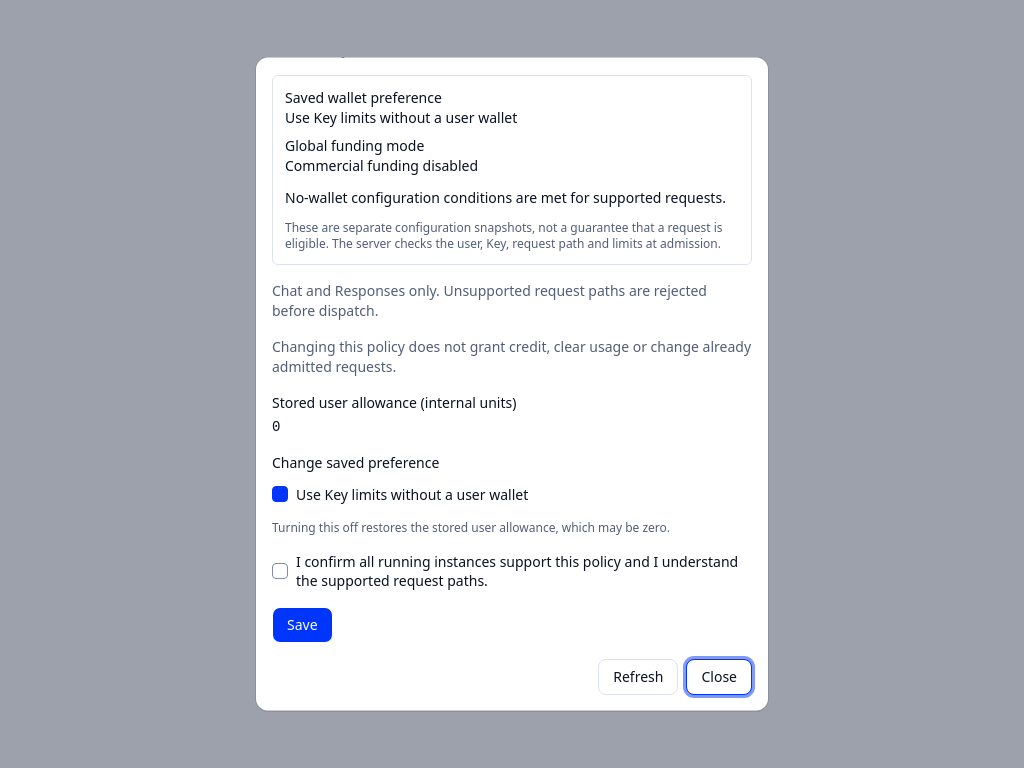
Test case: failed policy refresh removes configuration claims even when old data remains cached
The width and height of the screenshot is (1024, 768).
(page scrolled)
Expected: the text "No-wallet configuration conditions are met for supported requests." is shown, left=285, top=187, right=739, bottom=207
Click the button "Refresh" at x=638, y=676, box left=598, top=658, right=678, bottom=694
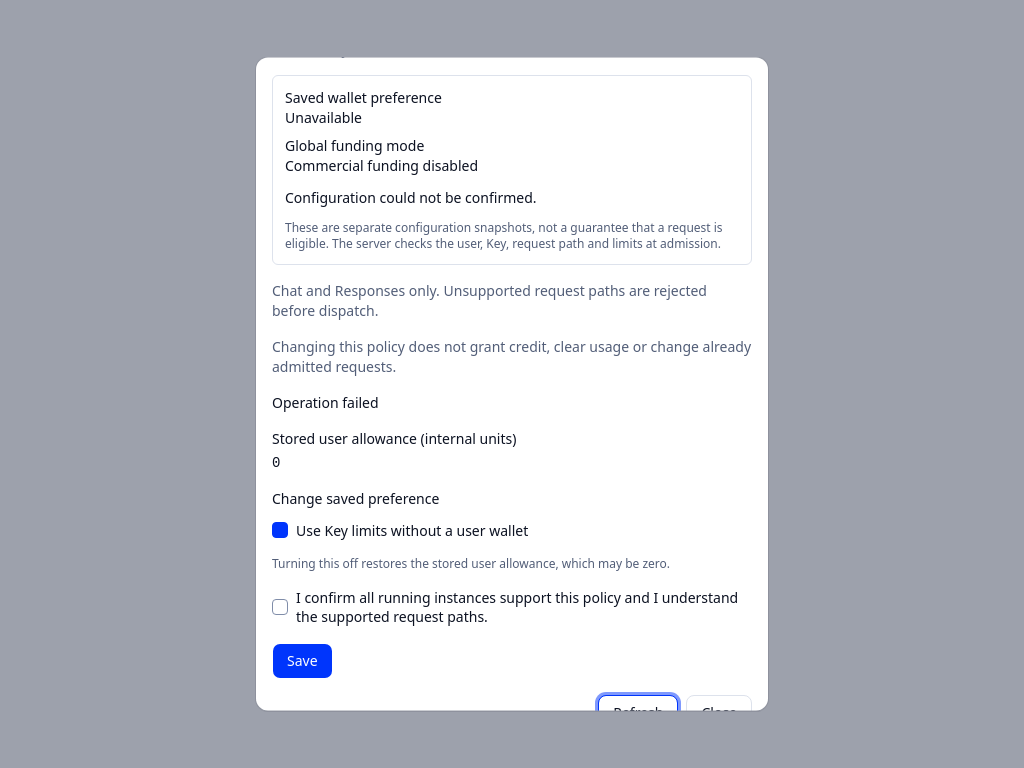
Result: the text "Configuration could not be confirmed." is shown at left=285, top=187, right=536, bottom=206
Result: the text "No-wallet configuration conditions are met for supported requests." is gone
